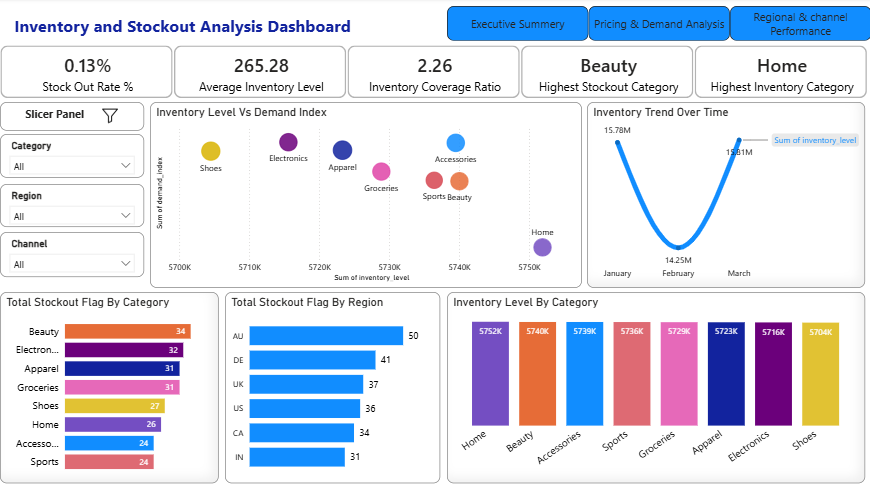

The page's visual inventory and layout, read from the dashboard file:
{"tool":"powerbi","page":{"name":"Inventory & Stockout","canvas":[1280,720],"ordinal":3},"visuals":[{"type":"pageNavigator","box":[658,11.7,622,51.2],"z":0},{"type":"textbox","box":[10,10,629.3,62.9],"z":1000},{"type":"cardVisual","fields":{"Data":["retail_pricing_demand_100k.Stock Out Rate %","retail_pricing_demand_100k.Average Inventory Level","retail_pricing_demand_100k.Inventory Coverage","retail_pricing_demand_100k.Highest Stockout Category","retail_pricing_demand_100k.Highest Inventory Category"]},"box":[0,64.4,1280,87.8],"z":2000},{"type":"clusteredBarChart","title":"Total Stockout Flag By Category","fields":{"Category":["retail_pricing_demand_100k.category"],"Y":["Sum(retail_pricing_demand_100k.stockout_flag)"]},"box":[4.4,430.2,320.5,279.5],"z":3000},{"type":"clusteredBarChart","title":"Total Stockout Flag By Region","fields":{"Y":["Sum(retail_pricing_demand_100k.stockout_flag)"],"Category":["retail_pricing_demand_100k.region"]},"box":[333.7,430.2,314.6,279.5],"z":4000},{"type":"columnChart","title":"Inventory Level By Category","fields":{"Category":["retail_pricing_demand_100k.category"],"Y":["Sum(retail_pricing_demand_100k.inventory_level)"]},"box":[658.5,430.2,611.7,279.5],"z":5000},{"type":"lineChart","title":"Inventory Trend Over Time","fields":{"Category":["Custom calendar.Custom date.Variation.Date Hierarchy.Month"],"Y":["Sum(retail_pricing_demand_100k.inventory_level)"]},"box":[863.4,152.2,406.8,272.2],"z":6000},{"type":"scatterChart","title":"Inventory  Level Vs Demand Index","fields":{"Y":["Sum(retail_pricing_demand_100k.demand_index)"],"Series":["retail_pricing_demand_100k.category"],"Size":["Sum(retail_pricing_demand_100k.revenue)"],"X":["Sum(retail_pricing_demand_100k.inventory_level)"]},"box":[223.9,152.2,632.2,272.2],"z":7000},{"type":"textbox","box":[4.4,152.2,210.7,42.4],"z":8000},{"type":"image","box":[142,161,46.8,23.4],"z":9000},{"type":"slicer","fields":{"Values":["retail_pricing_demand_100k.category"]},"box":[4.4,199,210.7,64.4],"z":10000},{"type":"slicer","fields":{"Values":["retail_pricing_demand_100k.region"]},"box":[4.4,272.2,210.7,62.9],"z":11000},{"type":"slicer","fields":{"Values":["retail_pricing_demand_100k.channel"]},"box":[4.4,342.4,210.7,65.9],"z":12000}]}

Visuals, with their boxes in screenshot pixels (x1, y1, x2, y2), scaled from the page's 1280x720 canvas onto the 870x488 screenshot:
pageNavigator: x1=447, y1=8, x2=869, y2=43
textbox: x1=7, y1=7, x2=435, y2=49
cardVisual - retail_pricing_demand_100k.Stock Out Rate % x retail_pricing_demand_100k.Average Inventory Level: x1=0, y1=44, x2=869, y2=103
"Total Stockout Flag By Category" clusteredBarChart: x1=3, y1=292, x2=221, y2=481
"Total Stockout Flag By Region" clusteredBarChart: x1=227, y1=292, x2=441, y2=481
"Inventory Level By Category" columnChart: x1=448, y1=292, x2=863, y2=481
"Inventory Trend Over Time" lineChart: x1=587, y1=103, x2=863, y2=288
"Inventory  Level Vs Demand Index" scatterChart: x1=152, y1=103, x2=582, y2=288
textbox: x1=3, y1=103, x2=146, y2=132
image: x1=97, y1=109, x2=128, y2=125
slicer - retail_pricing_demand_100k.category: x1=3, y1=135, x2=146, y2=179
slicer - retail_pricing_demand_100k.region: x1=3, y1=184, x2=146, y2=227
slicer - retail_pricing_demand_100k.channel: x1=3, y1=232, x2=146, y2=277
